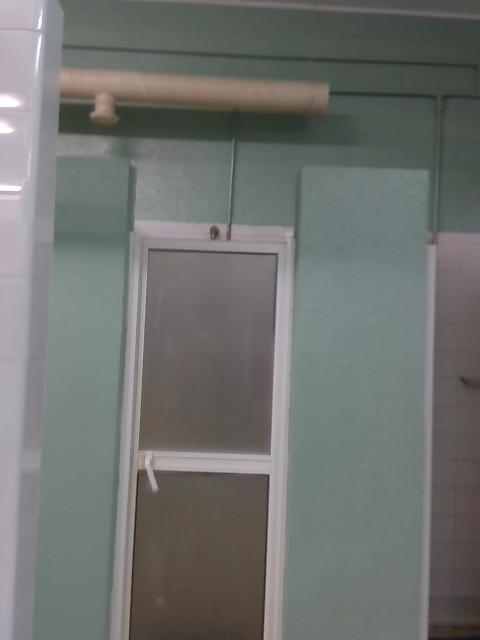door: (121, 231, 287, 640)
